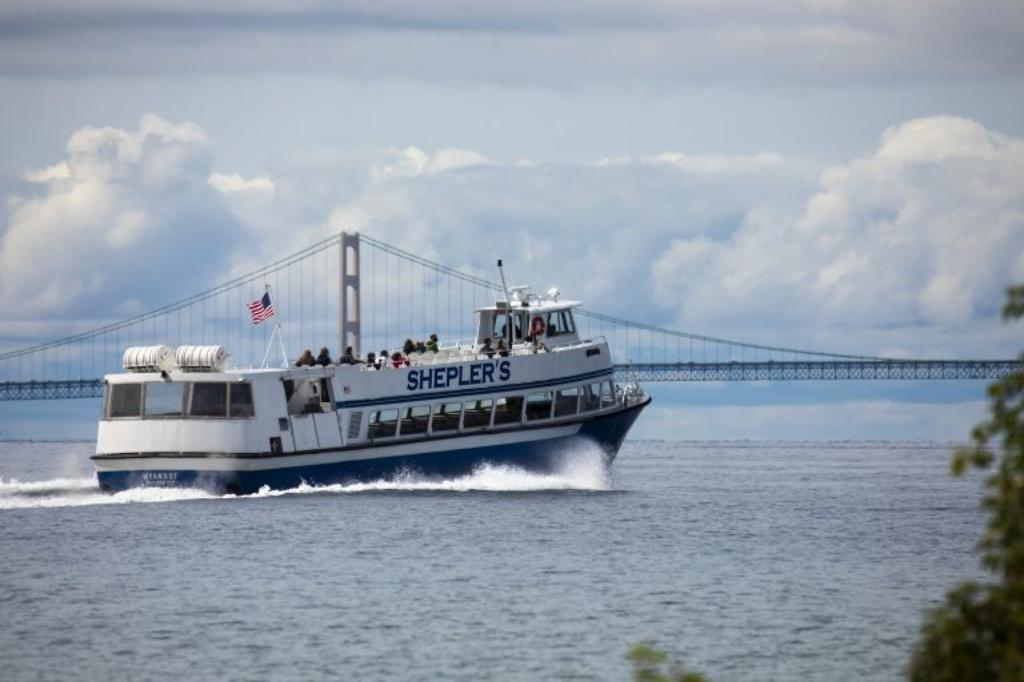PassengerShip: (77, 246, 657, 498)
